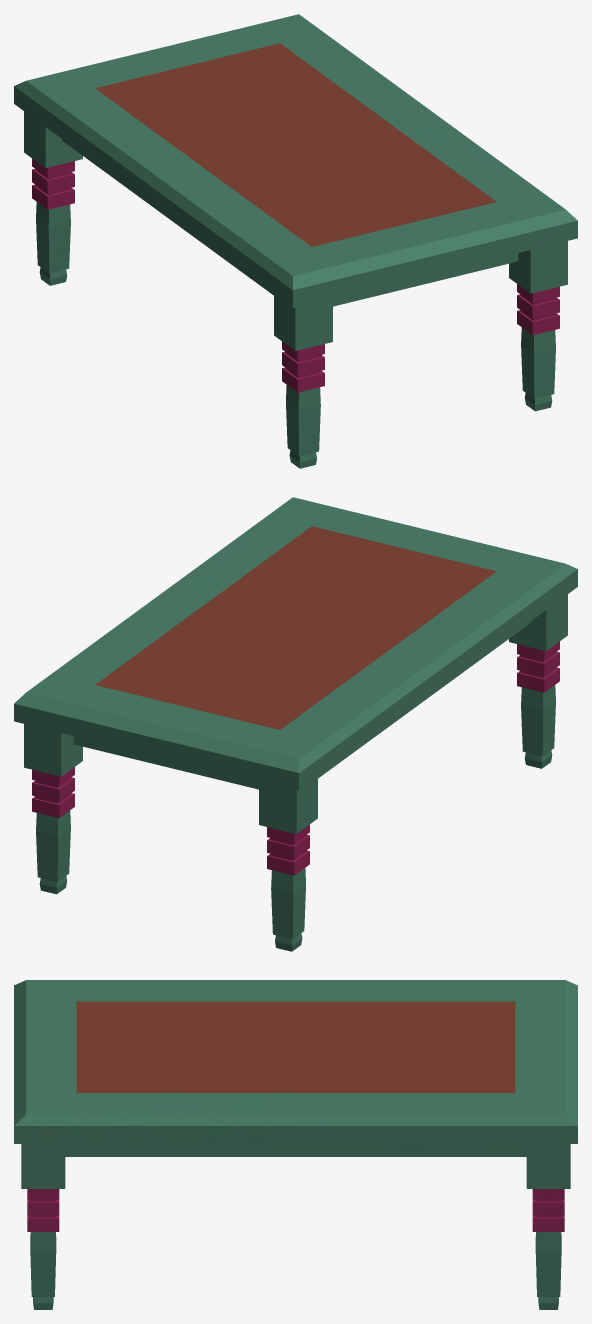
File: table.fbx
The picture shows the model from 3 angles, top to bottom: view 1: azimuth 30°, elevation 25°; view 2: azimuth 150°, elevation 25°; view 3: azimuth 270°, elevation 25°; orthographic projection.
Visible parts, largest first — view 1: table; view 2: table; view 3: table.
Part boxes in pixels (left/top/right/bottom): table: left=14, top=14, right=577, bottom=468; table: left=14, top=497, right=577, bottom=951; table: left=14, top=980, right=577, bottom=1309.
Size of the model in its own units: 136 by 90.06 by 230.
